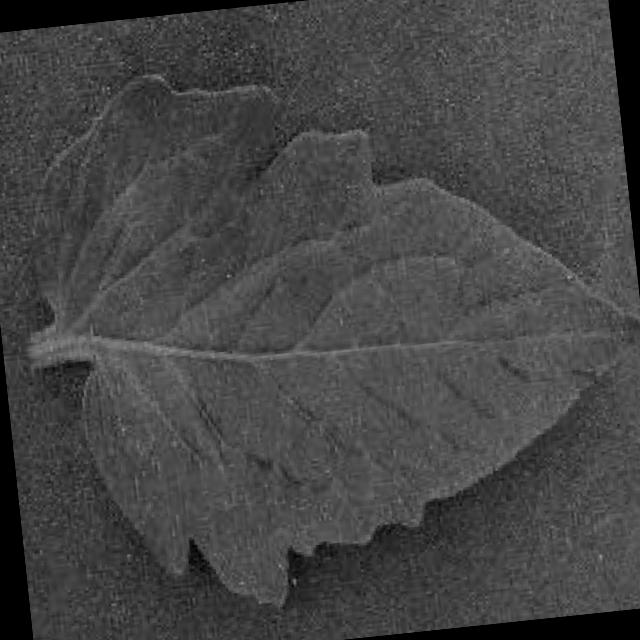healthy: (28, 74, 640, 623)
